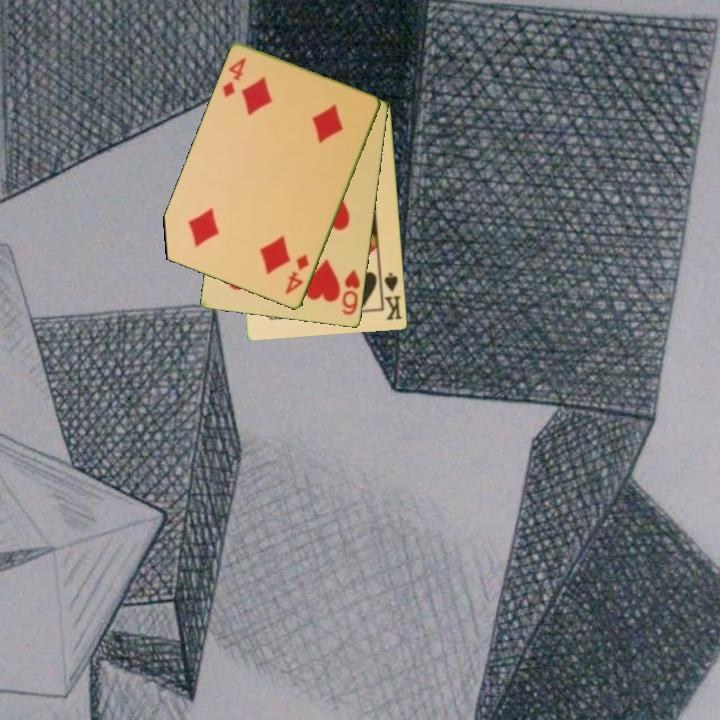4d: (282, 251, 313, 298), (219, 54, 249, 101)
6h: (339, 266, 363, 318)
Ks: (377, 269, 405, 323)
